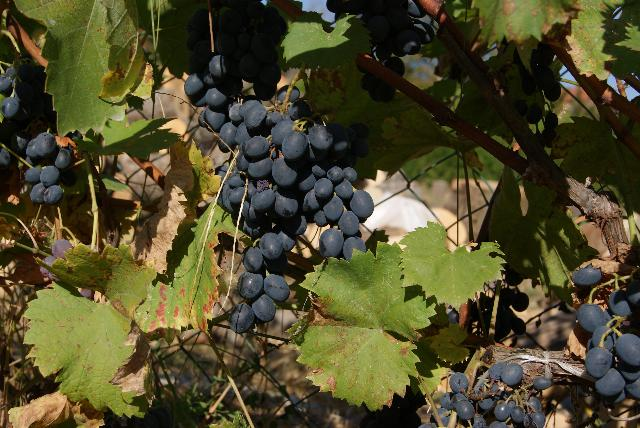grapes: (216, 104, 374, 330), (185, 0, 288, 151), (0, 62, 78, 205)
